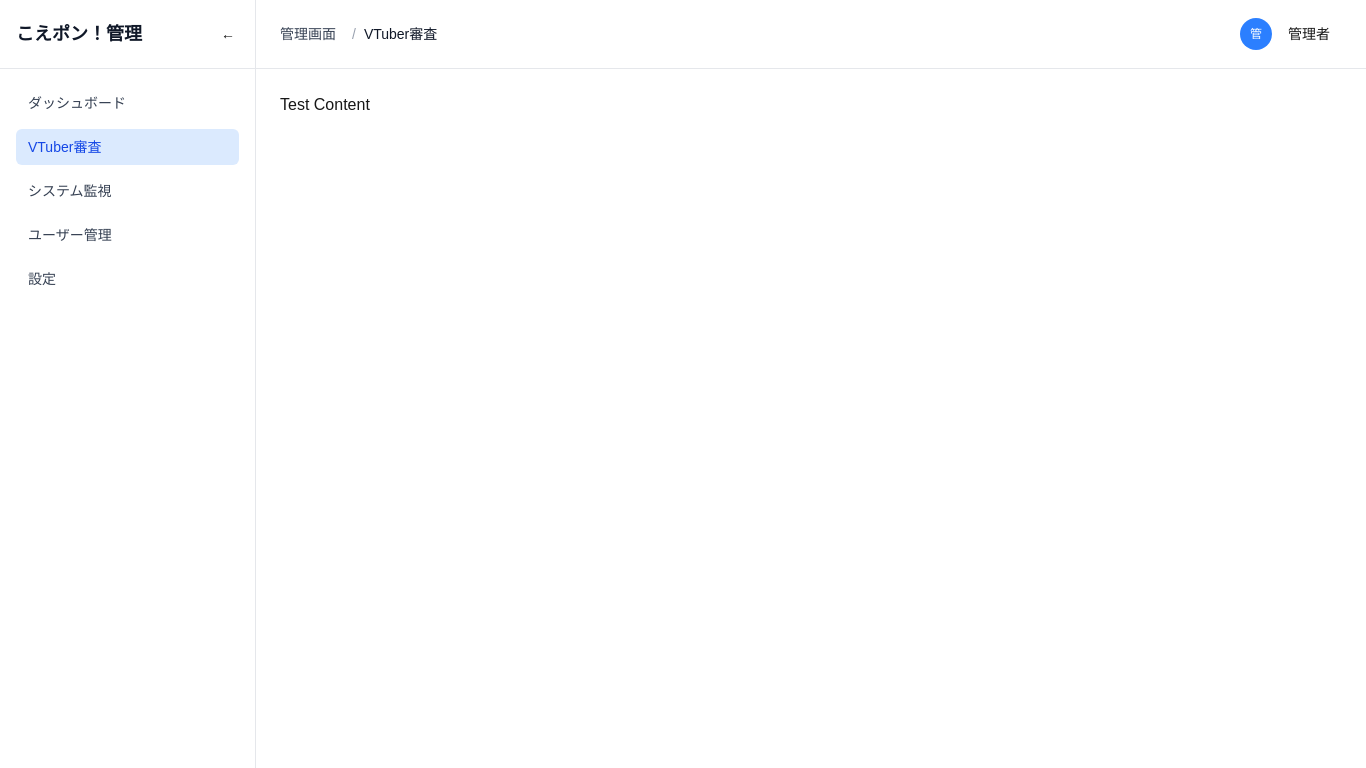
Scenario: AdminLayout › User Menu and Authentication › should show logout option in user menu
The width and height of the screenshot is (1366, 768).
Note: This will fail because user menu dropdown is not implemented yet
Click the button with test id "admin-user-menu".
click(1285, 34)  # box [1228,16,1342,52]
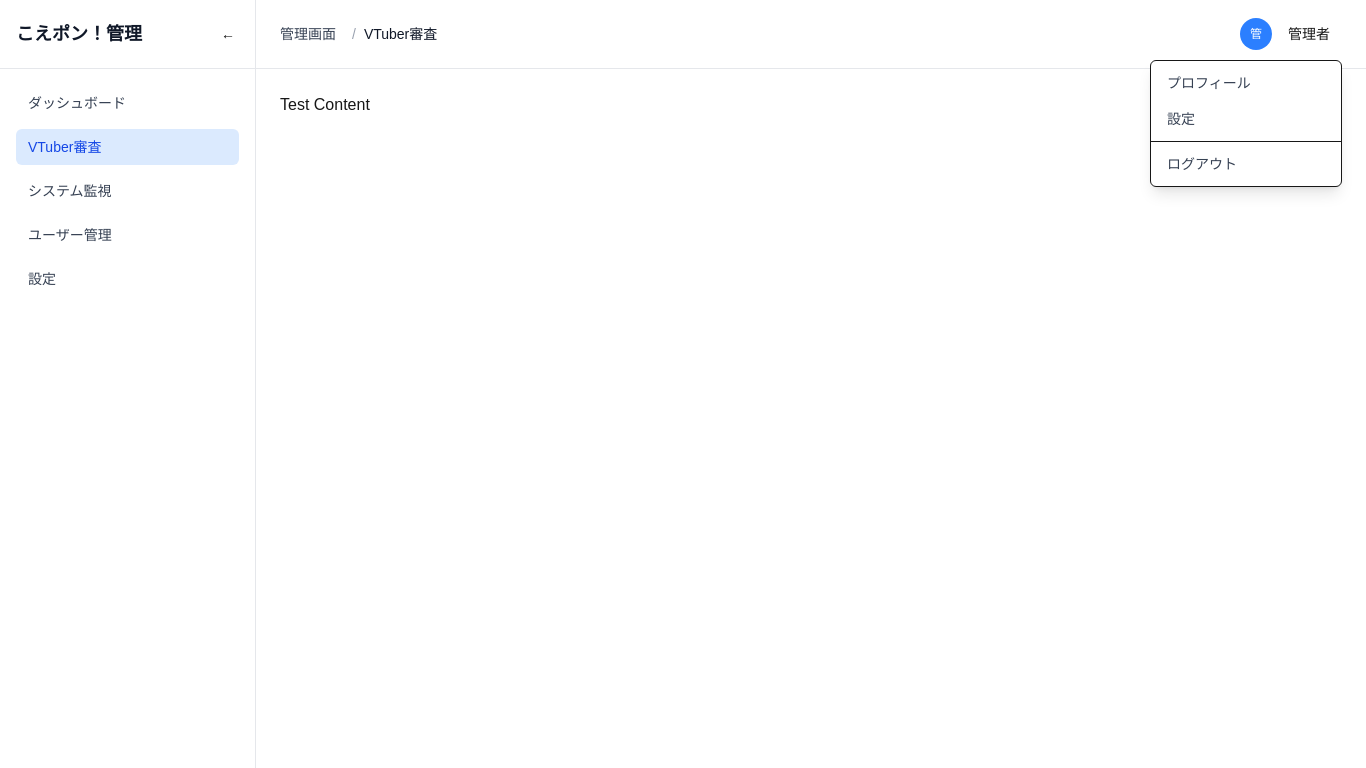
Expected: the button "プロフィール" is shown, [1151,65,1341,101]
Expected: the button "ログアウト" is shown, [1151,146,1341,182]
